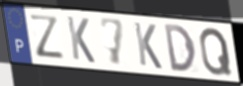7: (99, 16, 126, 69)
D: (162, 23, 198, 74)
K: (132, 20, 164, 71), (65, 14, 97, 65)
Q: (198, 26, 234, 78)
Z: (27, 13, 66, 61)
